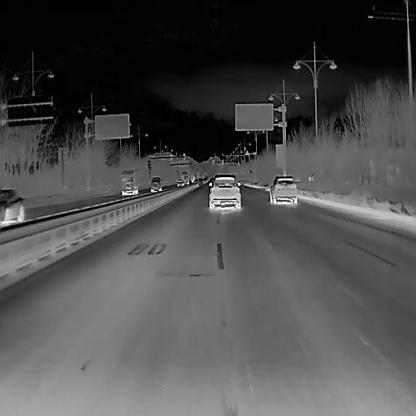car: (208, 172, 241, 210), (0, 189, 24, 227), (268, 175, 296, 203), (119, 168, 139, 195), (149, 175, 160, 192)
